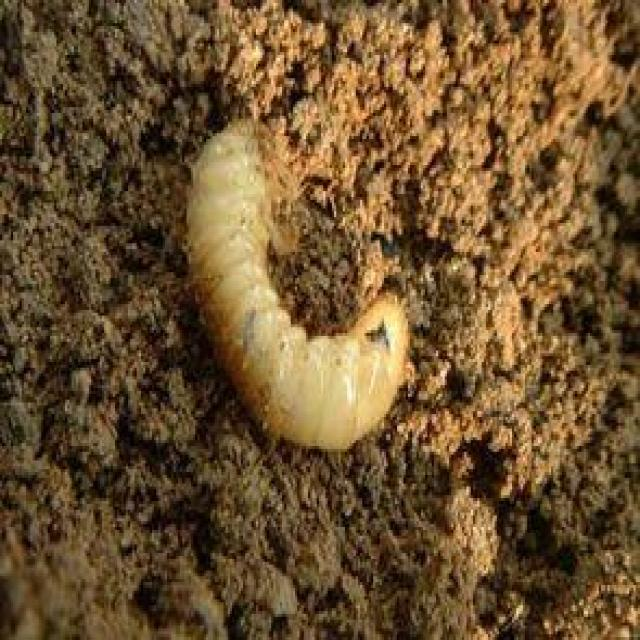Grub-Adult-: (177, 102, 429, 457)
